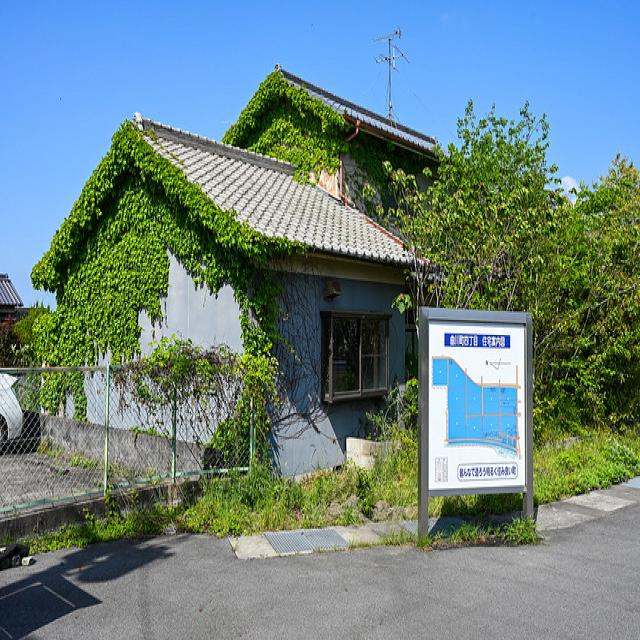Normal_building: (28, 66, 446, 503)
